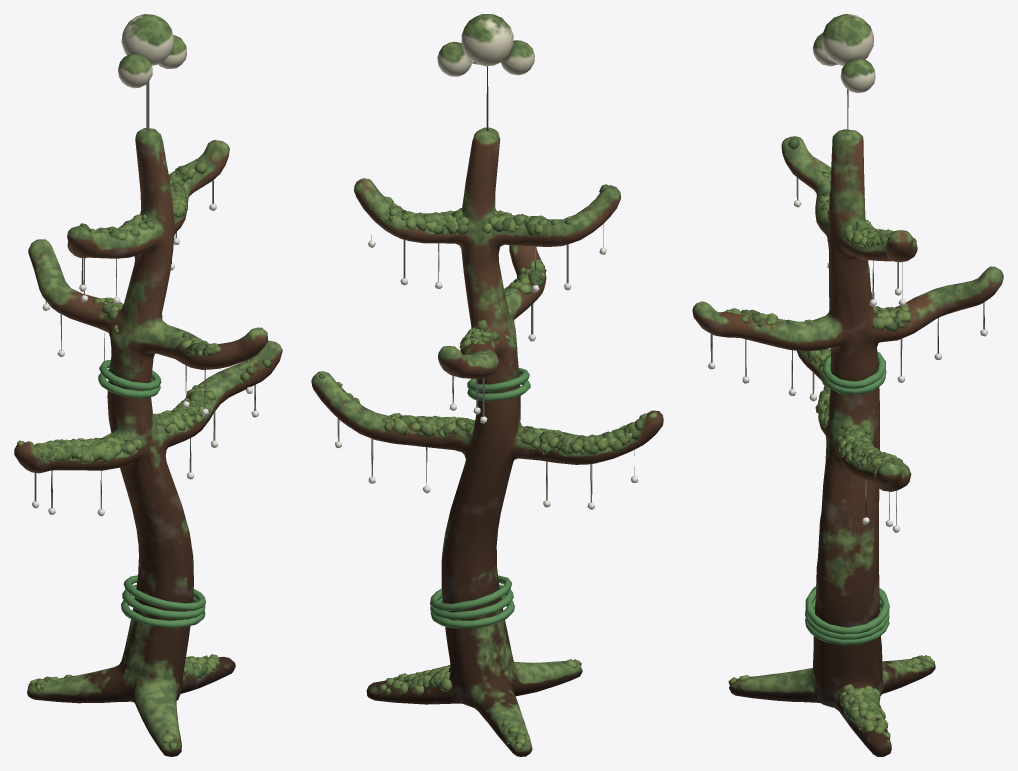
File: RackBase_Hanging.fbx
3 renders of one model, left to right at view 1: azimuth 30°, elevation 25°; view 2: azimuth 150°, elevation 25°; view 3: azimuth 270°, elevation 25°, orthographic.
Parts seen in each view (by area): view 1: RackBase_Hanging; view 2: RackBase_Hanging; view 3: RackBase_Hanging.
Boxes of the visible parts, bbox=[...] form: RackBase_Hanging: bbox=[14, 14, 282, 756]; RackBase_Hanging: bbox=[311, 14, 663, 756]; RackBase_Hanging: bbox=[692, 14, 1003, 756].
Bounding box in the file's own units: 1.01 × 2.19 × 0.8894.
